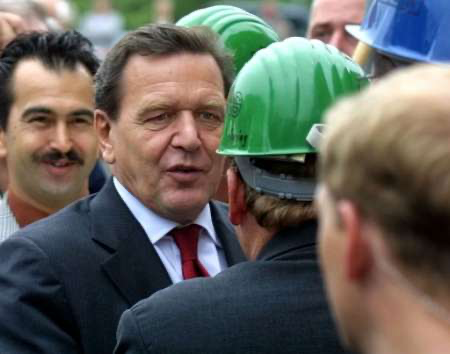Face: (119, 83, 240, 218), (0, 82, 114, 196)
